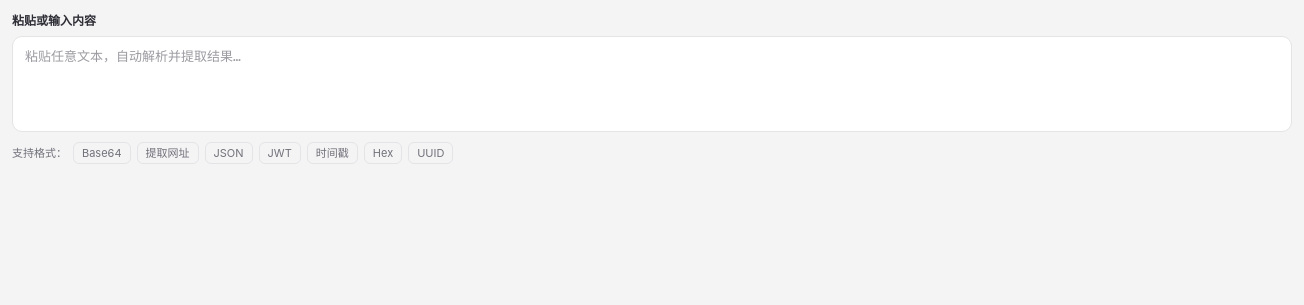
Test case: DetectTool 各类型结果视图 › UUID 示例：展示有效性 ✓ 与版本号 v4
The image size is (1304, 305).
Click the button with class "tw-detect__format-chip" showing "UUID" at (431, 153), box [408,142,454,164]
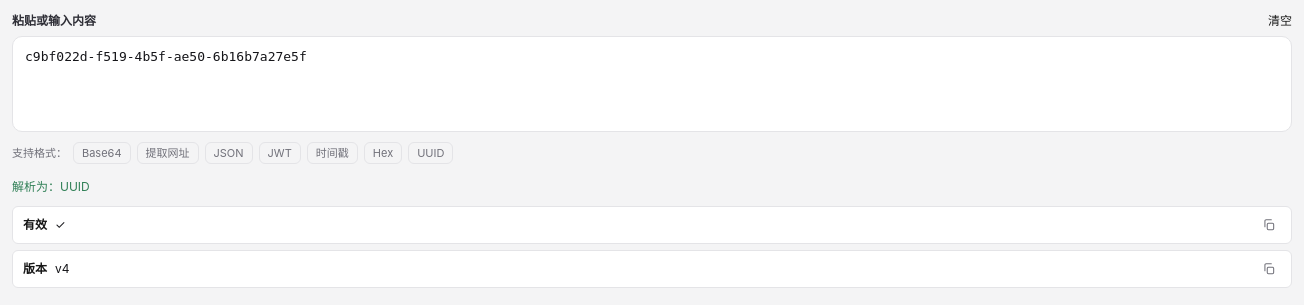
Now the text "解析为：UUID" is shown, box [12,178,90,196]
Now the text "有效" is shown, box [23,216,47,234]
Now the text "v4" is shown, box [55,261,70,276]
